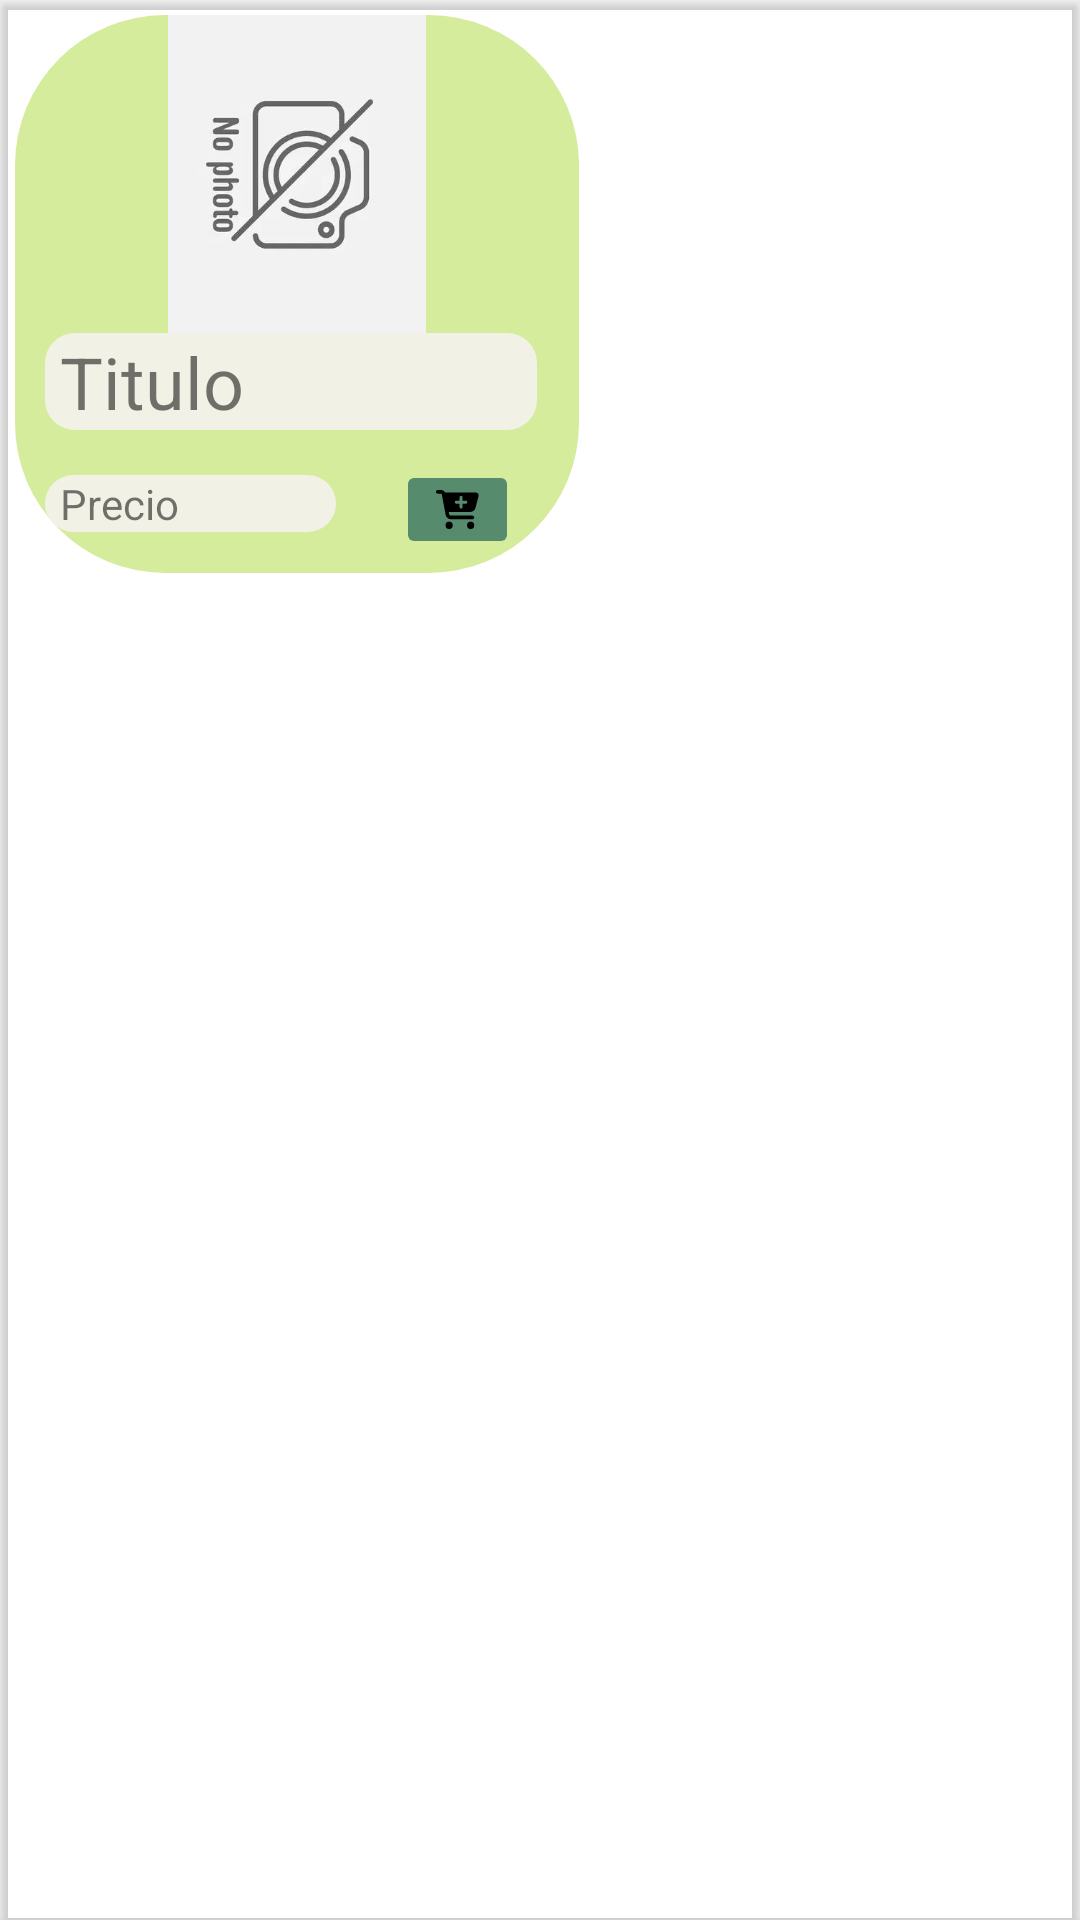

Where to tap for icons on this 1080 x 1920 app screen, as (x,y):
cart plus: (457,509)
